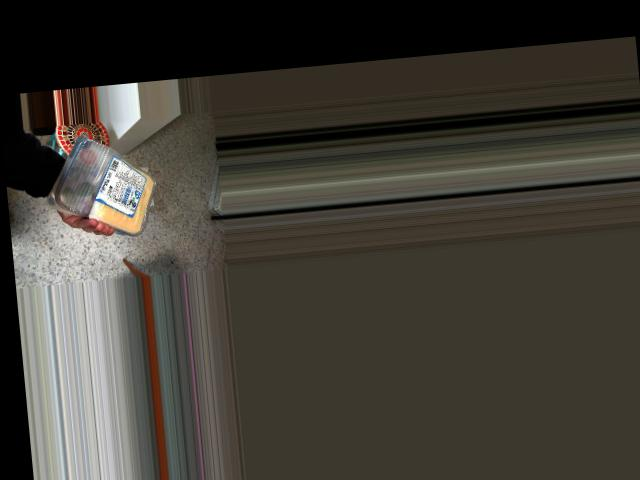cheese: (66, 122, 162, 234)
